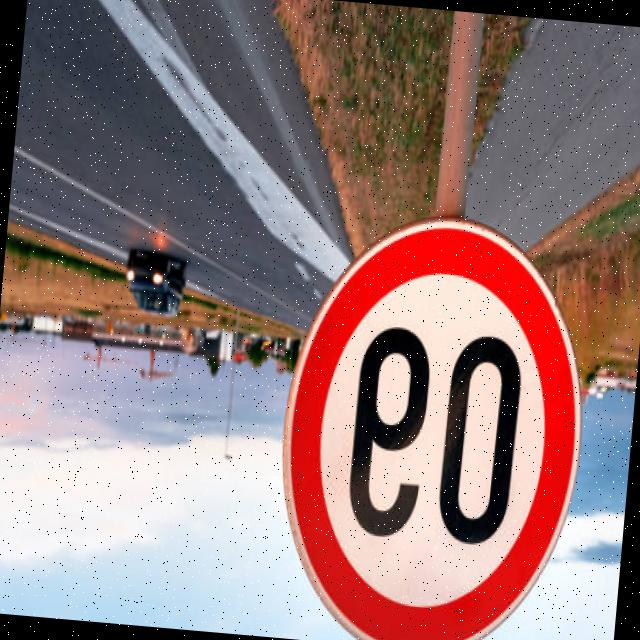speed_limit_60: (258, 197, 602, 640)
